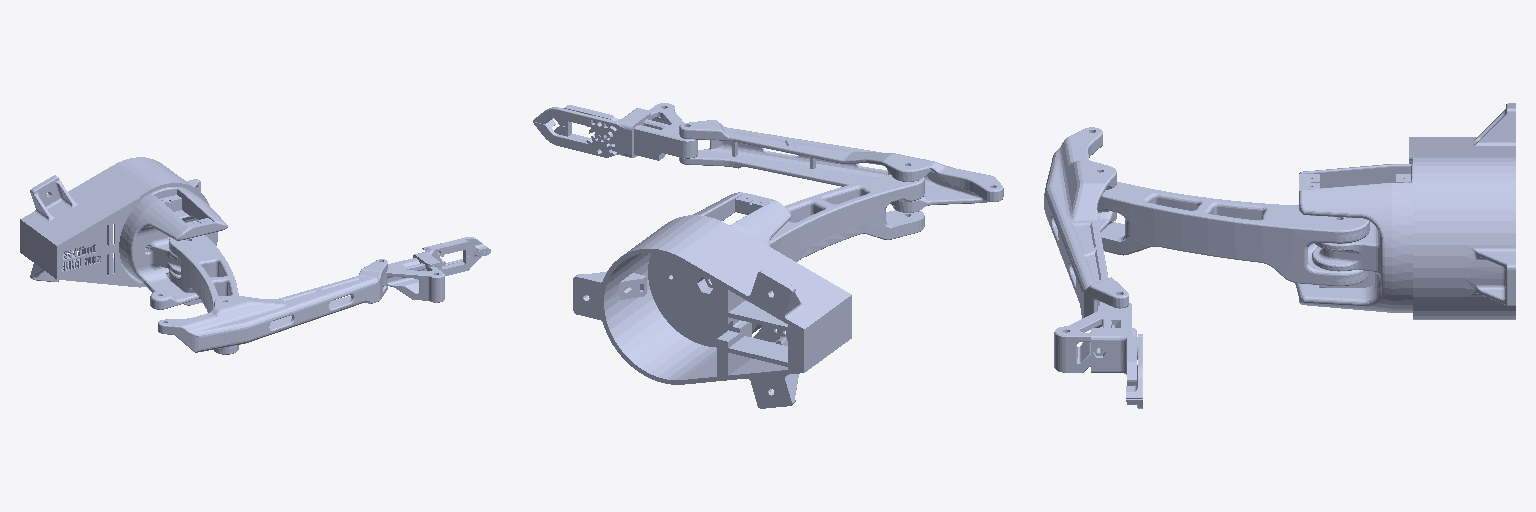
The robot description file, URDF, robot "mk2":
<?xml version="1.0" encoding="utf-8"?>
<!-- This URDF was automatically created by SolidWorks to URDF Exporter! Originally created by [author] ([email redacted]) 
     Commit Version: 1.5.1-0-g916b5db  Build Version: 1.5.7152.31018
     For more information, please see http://wiki.ros.org/sw_urdf_exporter -->
<robot
  name="mk2">

  <link name="world"/>

  <joint name="fixed" type="fixed">
    <origin
      xyz="0 0 0"
      rpy="0 0 0" />
    <parent link="world"/>
    <child link="base_link"/>
    <limit
      lower="0"
      upper="3.14"
      effort="100"
      velocity="1" />
  </joint>

  <link
    name="base_link">
    <inertial>
      <origin
        xyz="-0.0349815868608093 3.45195601212453E-06 0.0235962032476716"
        rpy="0 0 0" />
      <mass
        value="0.0994478705571182" />
      <inertia
        ixx="8.78738122261951E-05"
        ixy="3.72504351469179E-09"
        ixz="-9.04628434837041E-06"
        iyy="0.000227120361491651"
        iyz="-3.50836759207426E-10"
        izz="0.000268632717528072" />
    </inertial>
    <visual>
      <origin
        xyz="0 0 0"
        rpy="0 0 0" />
      <geometry>
        <mesh
          filename="package://zmh/meshes/base_link.STL" />
      </geometry>
      <material
        name="">
        <color
          rgba="0.792156862745098 0.819607843137255 0.933333333333333 1" />
      </material>
    </visual>
    <collision>
      <origin
        xyz="0 0 0"
        rpy="0 0 0" />
      <geometry>
        <mesh
          filename="package://zmh/meshes/base_link.STL" />
      </geometry>
    </collision>
  </link>
  <link
    name="link_1">
    <inertial>
      <origin
        xyz="0.00116183466010847 -0.000923292646146064 0.0204993310376243"
        rpy="0 0 0" />
      <mass
        value="0.143800774705571" />
      <inertia
        ixx="9.78517995973981E-05"
        ixy="2.76145534032057E-06"
        ixz="-4.65441556575713E-06"
        iyy="0.000103149724795545"
        iyz="4.667687422664E-06"
        izz="0.000114206001932188" />
    </inertial>
    <visual>
      <origin
        xyz="0 0 0"
        rpy="0 0 0" />
      <geometry>
        <mesh
          filename="package://zmh/meshes/link_1.STL" />
      </geometry>
      <material
        name="">
        <color
          rgba="0.792156862745098 0.819607843137255 0.933333333333333 1" />
      </material>
    </visual>
    <collision>
      <origin
        xyz="0 0 0"
        rpy="0 0 0" />
      <geometry>
        <mesh
          filename="package://zmh/meshes/link_1.STL" />
      </geometry>
    </collision>
  </link>
  <joint
    name="joint_1"
    type="revolute">
    <origin
      xyz="0 -0.051 0"
      rpy="1.5708 1.5708 0" />
    <parent
      link="base_link" />
    <child
      link="link_1" />
    <axis
      xyz="0 0 1" />
    <limit
      lower="-0.7854"
      upper="0.7854"
      effort="100"
      velocity="1" />
  </joint>
  <link
    name="link_2">
    <inertial>
      <origin
        xyz="-0.00452931540875191 -0.00218873956418274 0.0580626465984603"
        rpy="0 0 0" />
      <mass
        value="0.0718134009125203" />
      <inertia
        ixx="0.000155028184165305"
        ixy="-3.27574749088659E-07"
        ixz="1.16340292401804E-06"
        iyy="0.000153346834667362"
        iyz="8.25382674555585E-07"
        izz="1.2243566135266E-05" />
    </inertial>
    <visual>
      <origin
        xyz="0 0 0"
        rpy="0 0 0" />
      <geometry>
        <mesh
          filename="package://zmh/meshes/link_2.STL" />
      </geometry>
      <material
        name="">
        <color
          rgba="0.792156862745098 0.819607843137255 0.933333333333333 1" />
      </material>
    </visual>
    <collision>
      <origin
        xyz="0 0 0"
        rpy="0 0 0" />
      <geometry>
        <mesh
          filename="package://zmh/meshes/link_2.STL" />
      </geometry>
    </collision>
  </link>
  <joint
    name="joint_2"
    type="revolute">
    <origin
      xyz="0.00475 0 0.043"
      rpy="0 0.31128 -1.5708" />
    <parent
      link="link_1" />
    <child
      link="link_2" />
    <axis
      xyz="0 0 1" />
    <limit
      lower="-0.8"
      upper="0.35"
      effort="100"
      velocity="1" />
  </joint>
  <link
    name="link_3">
    <inertial>
      <origin
        xyz="0.037081320711932 -0.00178416319260027 0.0124408984823689"
        rpy="0 0 0" />
      <mass
        value="0.0388737410647466" />
      <inertia
        ixx="5.53461367920462E-06"
        ixy="4.42111573845459E-06"
        ixz="6.20780709754226E-07"
        iyy="0.00013900648727504"
        iyz="4.70845831476123E-07"
        izz="0.000138729814786303" />
    </inertial>
    <visual>
      <origin
        xyz="0 0 0"
        rpy="0 0 0" />
      <geometry>
        <mesh
          filename="package://zmh/meshes/link_3.STL" />
      </geometry>
      <material
        name="">
        <color
          rgba="0.792156862745098 0.819607843137255 0.933333333333333 1" />
      </material>
    </visual>
    <collision>
      <origin
        xyz="0 0 0"
        rpy="0 0 0" />
      <geometry>
        <mesh
          filename="package://zmh/meshes/link_3.STL" />
      </geometry>
    </collision>
  </link>
  <joint
    name="joint_3"
    type="revolute">
    <origin
      xyz="0 -0.01225 0.135"
      rpy="0 0.38422 -3.1416" />
    <parent
      link="link_2" />
    <child
      link="link_3" />
    <axis
      xyz="0 0 1" />
    <limit
      lower="0"
      upper="0.45"
      effort="100"
      velocity="1" />
  </joint>
  <link
    name="link_4">
    <inertial>
      <origin
        xyz="-0.00904521324105867 0.016161708416657 0.0161562110474978"
        rpy="0 0 0" />
      <mass
        value="0.0151686424476392" />
      <inertia
        ixx="4.23068158277324E-06"
        ixy="-2.60938380303925E-07"
        ixz="2.96419868226402E-07"
        iyy="2.6555628669253E-06"
        iyz="9.03977750880711E-07"
        izz="2.55615306101055E-06" />
    </inertial>
    <visual>
      <origin
        xyz="0 0 0"
        rpy="0 0 0" />
      <geometry>
        <mesh
          filename="package://zmh/meshes/link_4.STL" />
      </geometry>
      <material
        name="">
        <color
          rgba="0.792156862745098 0.819607843137255 0.933333333333333 1" />
      </material>
    </visual>
    <collision>
      <origin
        xyz="0 0 0"
        rpy="0 0 0" />
      <geometry>
        <mesh
          filename="package://zmh/meshes/link_4.STL" />
      </geometry>
    </collision>
  </link>
  <joint
    name="joint_4"
    type="revolute">
    <origin
      xyz="0.18669 0.002 -0.0034048"
      rpy="-0.078331 0 1.5708" />
    <parent
      link="link_3" />
    <child
      link="link_4" />
    <axis
      xyz="0 0 1" />
    <limit
      lower="-3.1416"
      upper="3.1416"
      effort="100"
      velocity="1" />
  </joint>
  <link
    name="claw_base">
    <inertial>
      <origin
        xyz="0.00644953017850305 -0.00017902127468191 0.00761523104103851"
        rpy="0 0 0" />
      <mass
        value="0.00812744275701585" />
      <inertia
        ixx="8.61994479025372E-07"
        ixy="-2.11585838806158E-08"
        ixz="4.31549931637107E-07"
        iyy="2.25293774873985E-06"
        iyz="1.65458294619221E-08"
        izz="2.29927367017943E-06" />
    </inertial>
    <visual>
      <origin
        xyz="0 0 0"
        rpy="0 0 0" />
      <geometry>
        <mesh
          filename="package://zmh/meshes/claw_base.STL" />
      </geometry>
      <material
        name="">
        <color
          rgba="0.792156862745098 0.819607843137255 0.933333333333333 1" />
      </material>
    </visual>
    <collision>
      <origin
        xyz="0 0 0"
        rpy="0 0 0" />
      <geometry>
        <mesh
          filename="package://zmh/meshes/claw_base.STL" />
      </geometry>
    </collision>
  </link>
  <joint
    name="claw_base_joint"
    type="fixed">
    <origin
      xyz="-0.0087 -0.006 -0.00295"
      rpy="0 0 -1.5708" />
    <parent
      link="link_4" />
    <child
      link="claw_base" />
    <axis
      xyz="0 0 0" />
    <limit
      lower="0"
      upper="0"
      effort="100"
      velocity="1" />
  </joint>
  <link
    name="claw_l">
    <inertial>
      <origin
        xyz="0.018795969030189 -0.00209029441611197 -0.00256048827274187"
        rpy="0 0 0" />
      <mass
        value="0.00138436151350558" />
      <inertia
        ixx="2.16139574184186E-08"
        ixy="1.517848128097E-08"
        ixz="2.79262652439626E-08"
        iyy="4.15144873931117E-07"
        iyz="-3.53758311900147E-09"
        izz="4.0210212013052E-07" />
    </inertial>
    <visual>
      <origin
        xyz="0 0 0"
        rpy="0 0 0" />
      <geometry>
        <mesh
          filename="package://zmh/meshes/claw_l.STL" />
      </geometry>
      <material
        name="">
        <color
          rgba="0.792156862745098 0.819607843137255 0.933333333333333 1" />
      </material>
    </visual>
    <collision>
      <origin
        xyz="0 0 0"
        rpy="0 0 0" />
      <geometry>
        <mesh
          filename="package://zmh/meshes/claw_l.STL" />
      </geometry>
    </collision>
  </link>
  <joint
    name="claw_l_joint"
    type="revolute">
    <origin
      xyz="0.0085 0.00905 -0.0033"
      rpy="-1.5708 0 0" />
    <parent
      link="claw_base" />
    <child
      link="claw_l" />
    <axis
      xyz="0 0 1" />
    <limit
      lower="0"
      upper="0.65"
      effort="100"
      velocity="1" />
  </joint>
  <link
    name="claw_r">
    <inertial>
      <origin
        xyz="0.0184397787649197 -0.00093284347084055 -0.00253431616879777"
        rpy="0 0 0" />
      <mass
        value="0.00143203670791784" />
      <inertia
        ixx="2.18331042102845E-08"
        ixy="-1.6002566519607E-08"
        ixz="2.86397375361884E-08"
        iyy="4.26824046623585E-07"
        iyz="3.65519116896282E-09"
        izz="4.13780496158708E-07" />
    </inertial>
    <visual>
      <origin
        xyz="0 0 0"
        rpy="0 0 0" />
      <geometry>
        <mesh
          filename="package://zmh/meshes/claw_r.STL" />
      </geometry>
      <material
        name="">
        <color
          rgba="0.792156862745098 0.819607843137255 0.933333333333333 1" />
      </material>
    </visual>
    <collision>
      <origin
        xyz="0 0 0"
        rpy="0 0 0" />
      <geometry>
        <mesh
          filename="package://zmh/meshes/claw_r.STL" />
      </geometry>
    </collision>
  </link>
  <joint
    name="claw_r_joint"
    type="revolute">
    <origin
      xyz="0.0085 -0.00905 -0.0003"
      rpy="1.5708 0 0" />
    <parent
      link="claw_base" />
    <child
      link="claw_r" />
    <axis
      xyz="0 0 1" />
    <limit
      lower="0"
      upper="0.65"
      effort="100"
      velocity="1" />
    <mimic
      joint=""
      multiplier="1"
      offset="0" />
  </joint>
</robot>

--- Facts derived from the render (not from the file) ---
Views: 3 orthographic renders of the robot side by side, from view 1: azimuth 30°, elevation 25°; view 2: azimuth 150°, elevation 25°; view 3: azimuth 270°, elevation 25°.
Model mk2 with 9 links and 8 joints (6 revolute, 2 fixed), rooted at world, posed all joints at 0.
Visible links, largest first — view 1: base_link, link_3, link_1, link_2, link_4, claw_base; view 2: base_link, link_3, link_2, link_1, link_4, claw_base, claw_r, claw_l; view 3: base_link, link_2, link_1, link_3, link_4, claw_base, claw_l.
Link boxes in pixels (bbox=[...]): base_link: bbox=[20, 157, 209, 287]; link_3: bbox=[158, 259, 387, 352]; link_1: bbox=[119, 187, 227, 309]; link_2: bbox=[169, 235, 238, 354]; link_4: bbox=[383, 258, 444, 302]; claw_base: bbox=[413, 239, 476, 275]; base_link: bbox=[573, 215, 851, 408]; link_3: bbox=[679, 120, 1003, 212]; link_2: bbox=[770, 174, 924, 261]; link_1: bbox=[648, 192, 791, 347]; link_4: bbox=[634, 103, 697, 160]; claw_base: bbox=[554, 105, 650, 157]; claw_r: bbox=[533, 119, 616, 157]; claw_l: bbox=[533, 107, 616, 140]; base_link: bbox=[1409, 103, 1515, 319]; link_2: bbox=[1097, 182, 1369, 285]; link_1: bbox=[1295, 164, 1412, 312]; link_3: bbox=[1044, 127, 1128, 327]; link_4: bbox=[1054, 303, 1131, 372]; claw_base: bbox=[1091, 328, 1136, 404]; claw_l: bbox=[1126, 334, 1142, 398].
Bounding box of the posed robot: 0.31 × 0.2523 × 0.0906 m (x, y, z).
Meshes: 8 distinct files referenced, 8 mesh visuals loaded (8 binary STL).
